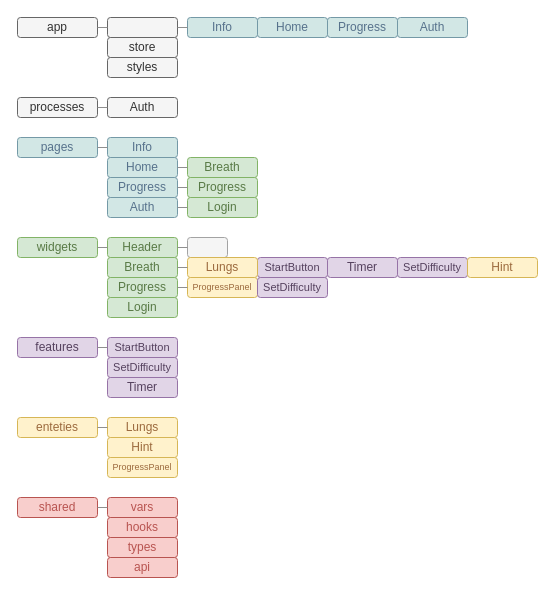
Some shapes in this 555 by 595 pixel diagram are drawn without their labels. Each missing label, with the box of its shape:
layout: (186, 236, 228, 258)
routes: (106, 16, 178, 38)
